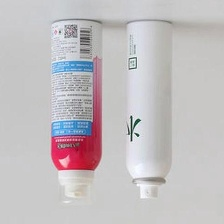aerosol_cans: (45, 17, 105, 207), (121, 16, 176, 202)
